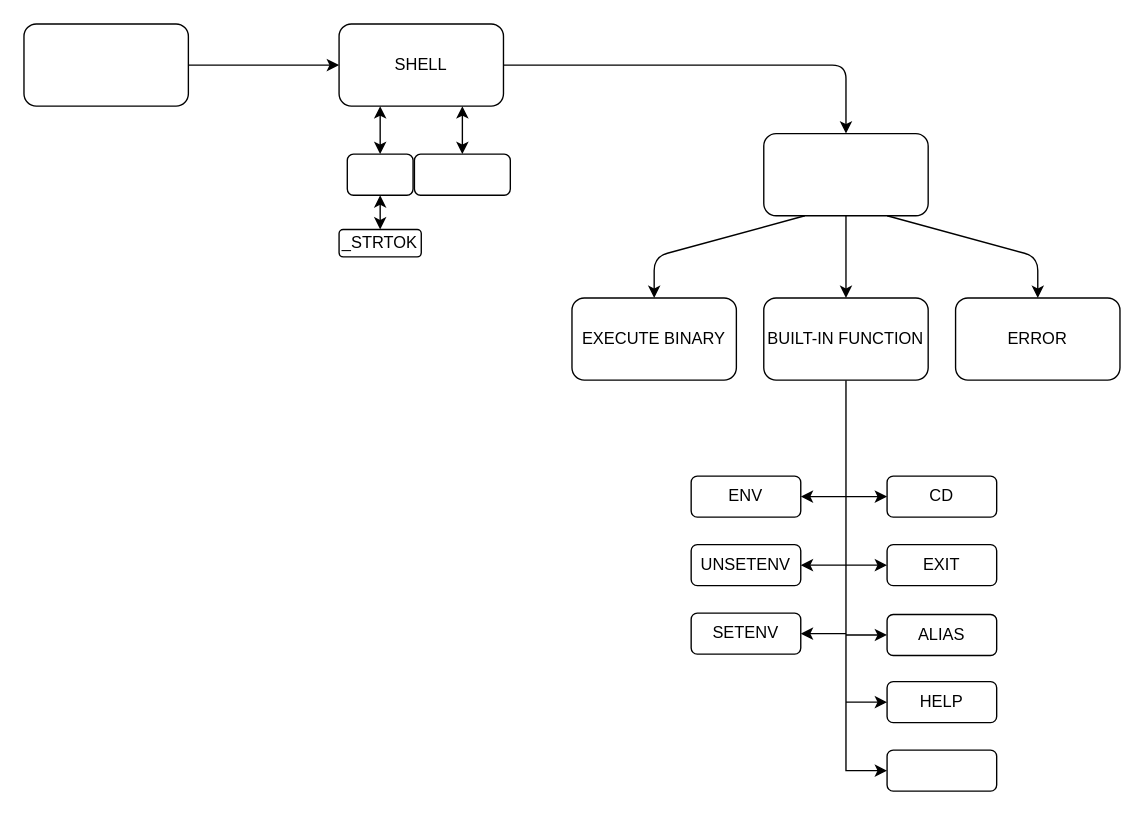
The diagram is 1144 pixels wide and 815 high, and some of its shapes have lost their labels. Each missing label, with the box of its shape:
_GETLINE: (413, 153, 510, 195)
HISTORY: (886, 749, 997, 791)
MAIN/TEST: (23, 23, 188, 106)
SPLIT: (346, 153, 413, 195)
VALIDATION: (762, 132, 928, 216)
